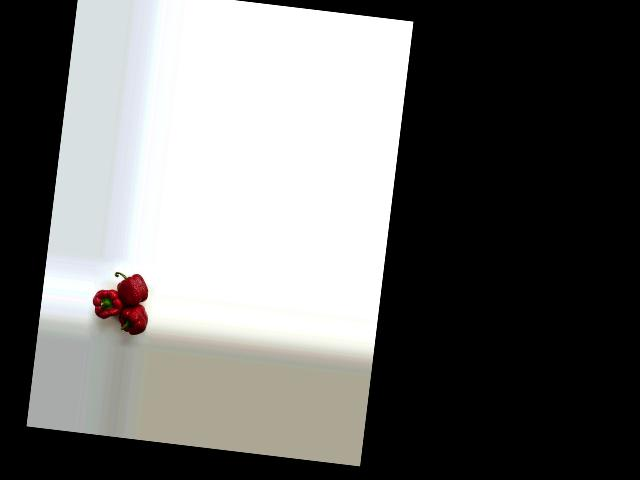bell_pepper: (110, 264, 152, 305)
